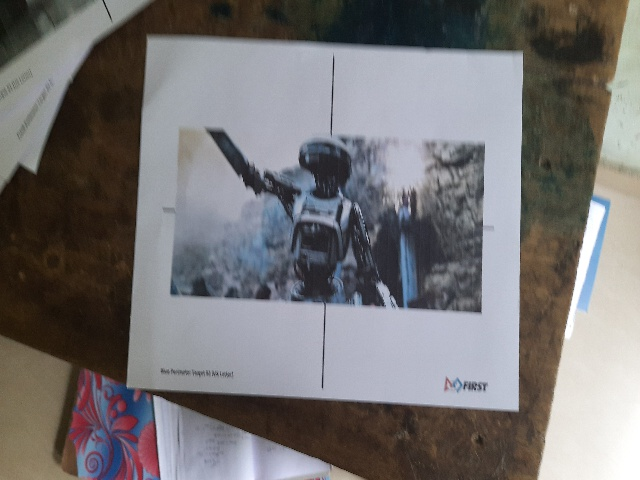bpt2: (150, 39, 512, 391)
